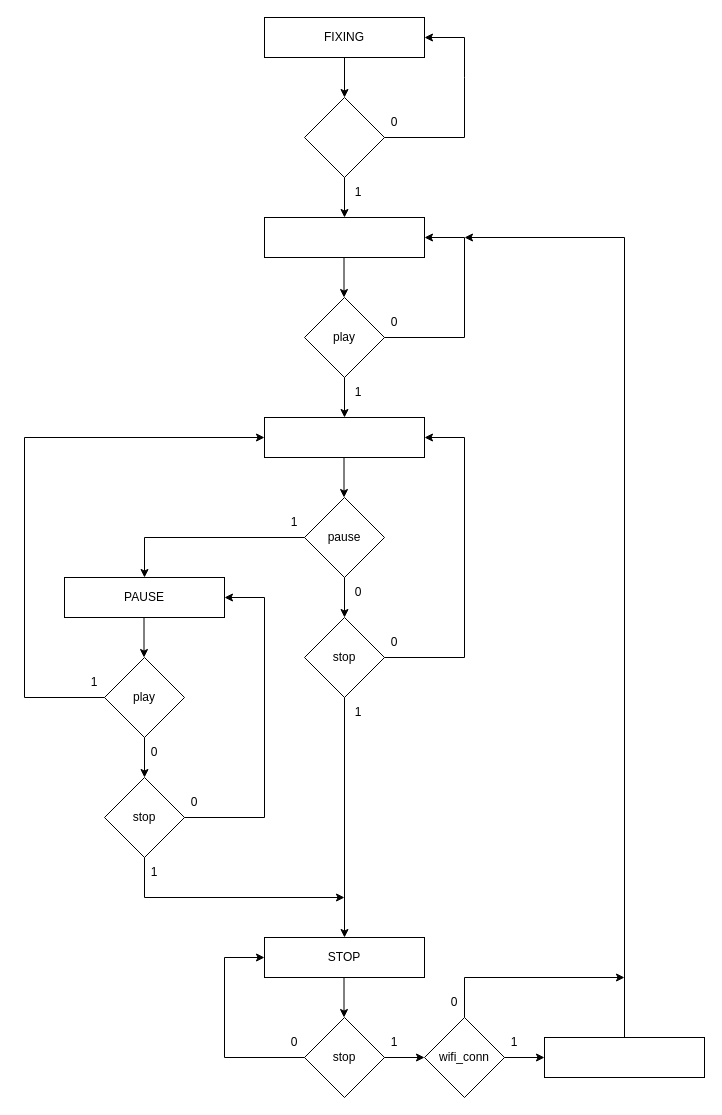
The diagram is 722 pixels wide and 1115 high, and some of its shapes have lost their labels. The shapes that lost their labels are listed below. From the top down, each one's centre as x and y in pixels, then its label:
At point (344, 137): "is_fix".
At point (344, 237): "IDLE".
At point (344, 437): "RUNNING".
At point (624, 1057): "TRANSMIT TO ESP".
